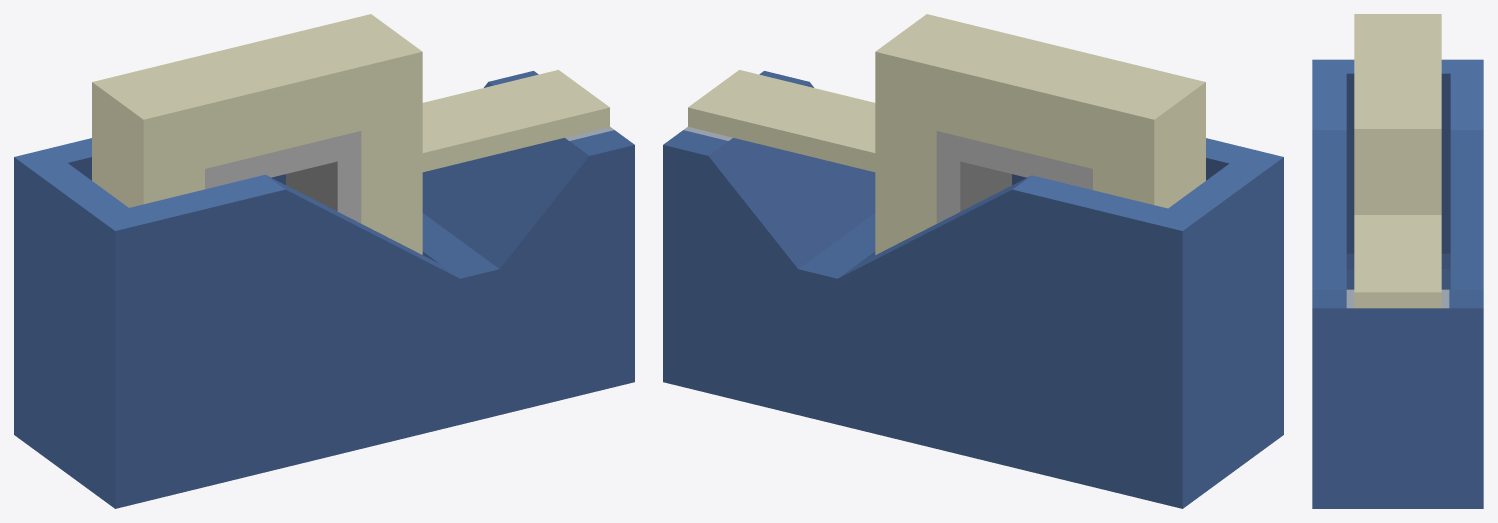
The model's file is SellotapeDispenser.glb.
3 views of the same model, side by side, from view 1: azimuth 30°, elevation 25°; view 2: azimuth 150°, elevation 25°; view 3: azimuth 270°, elevation 25° (orthographic). The views are drawn at different scales.
Parts seen in each view (by area): view 1: SO_SellotapeDispenser_01; view 2: SO_SellotapeDispenser_01; view 3: SO_SellotapeDispenser_01.
Part boxes in pixels (x1,y1,x2,y2): SO_SellotapeDispenser_01: (14,14,634,508); SO_SellotapeDispenser_01: (663,14,1283,508); SO_SellotapeDispenser_01: (1312,14,1483,508).
Size of the model in its own units: 0.00295 by 0.00194 by 0.000997.
Materials: 1 (1 with a texture image).
